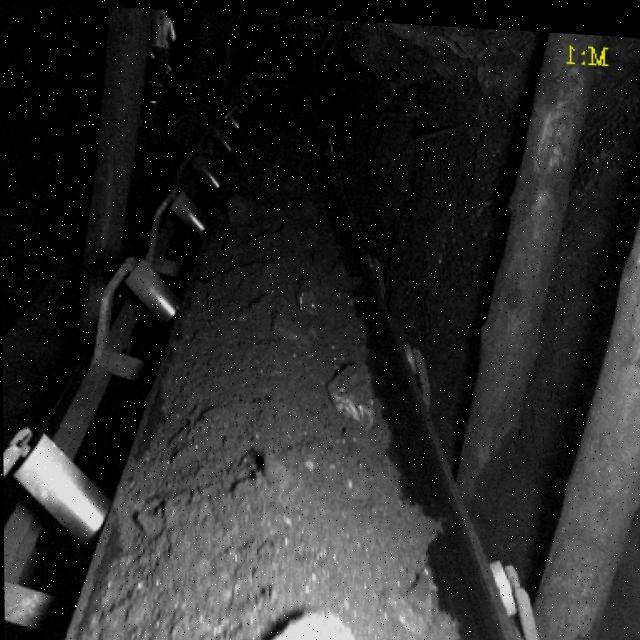large_sized_coal: (248, 606, 384, 640), (334, 355, 378, 424)
